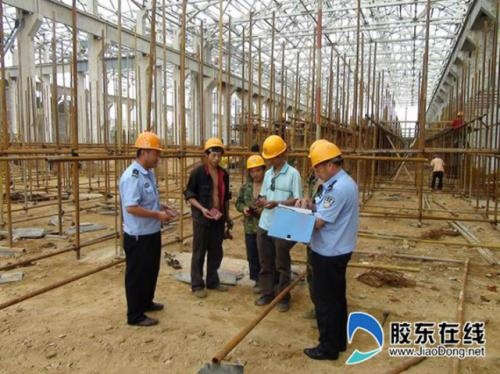yellow: (310, 140, 342, 181), (133, 130, 163, 169), (260, 134, 288, 169), (201, 135, 225, 168), (244, 153, 266, 181)
